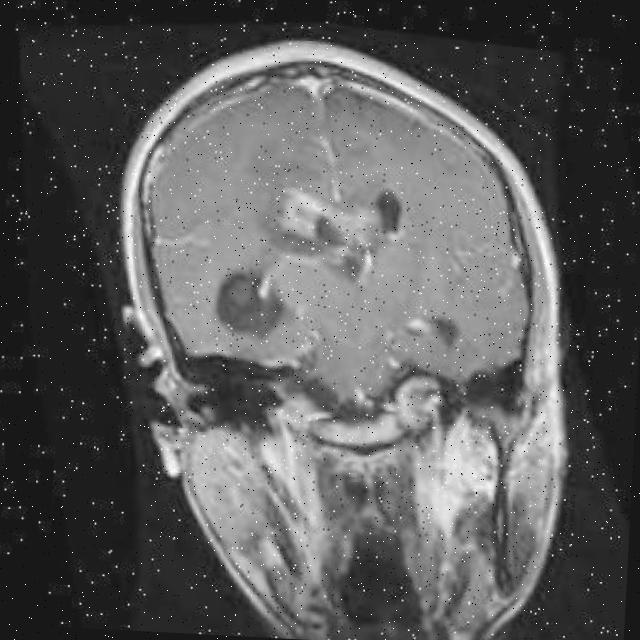LMCI: (192, 190, 328, 304)
MCI: (200, 293, 334, 384)
